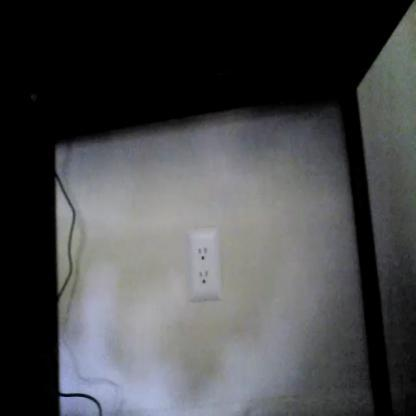OUTLET: (188, 226, 218, 301)
